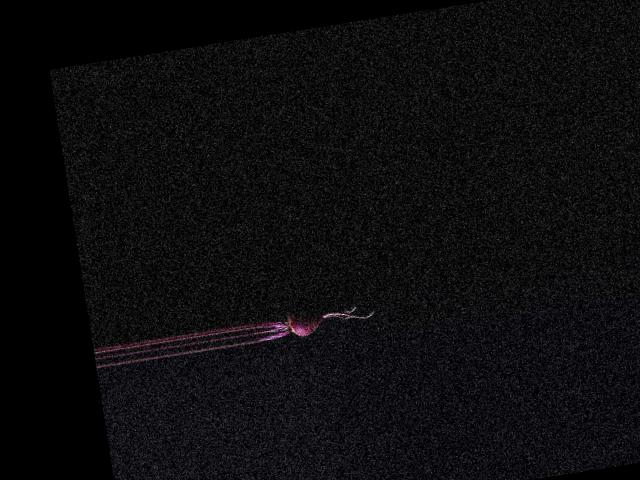beet: (250, 293, 376, 345)
